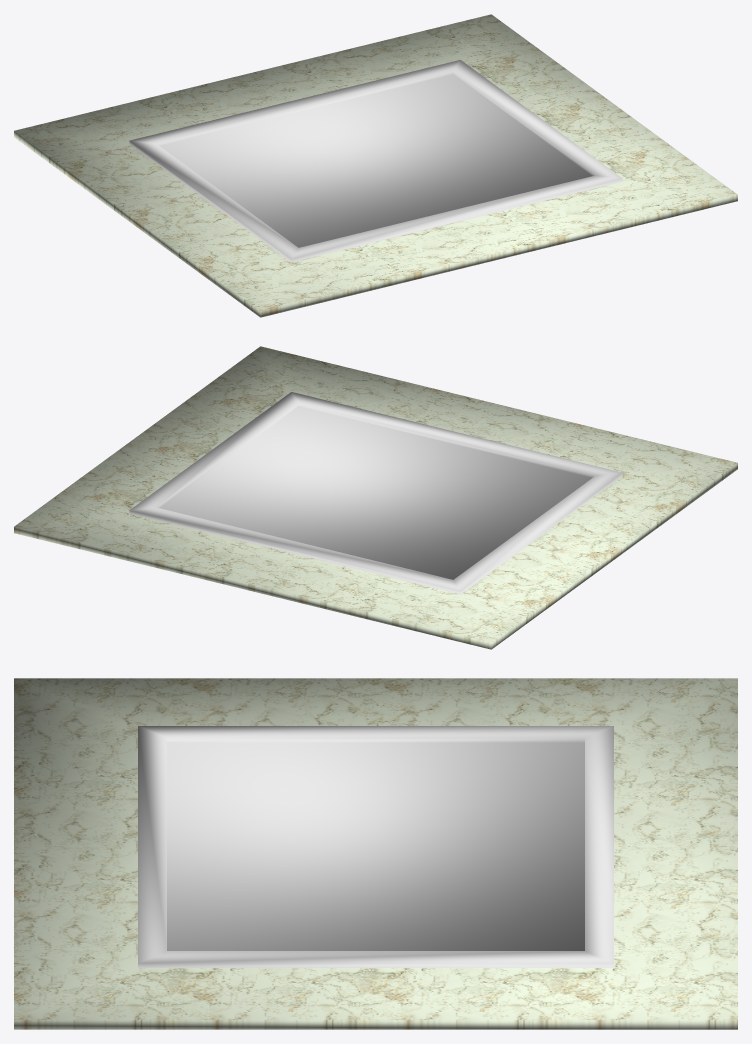
Rendered from floor.glb.
3 views of the same model, one above another, from view 1: azimuth 30°, elevation 25°; view 2: azimuth 150°, elevation 25°; view 3: azimuth 270°, elevation 25° (orthographic). The views are drawn at different scales.
Visible parts, largest first — view 1: Cube.004; view 2: Cube.004; view 3: Cube.004.
Part boxes in pixels (x1=…): Cube.004: x1=14, y1=14, x2=737, y2=317; Cube.004: x1=14, y1=346, x2=737, y2=649; Cube.004: x1=14, y1=678, x2=737, y2=1029.
Bounding box in the file's own units: 4.12 × 0.0794 × 3.68.
Materials: 3 (1 with a texture image).
